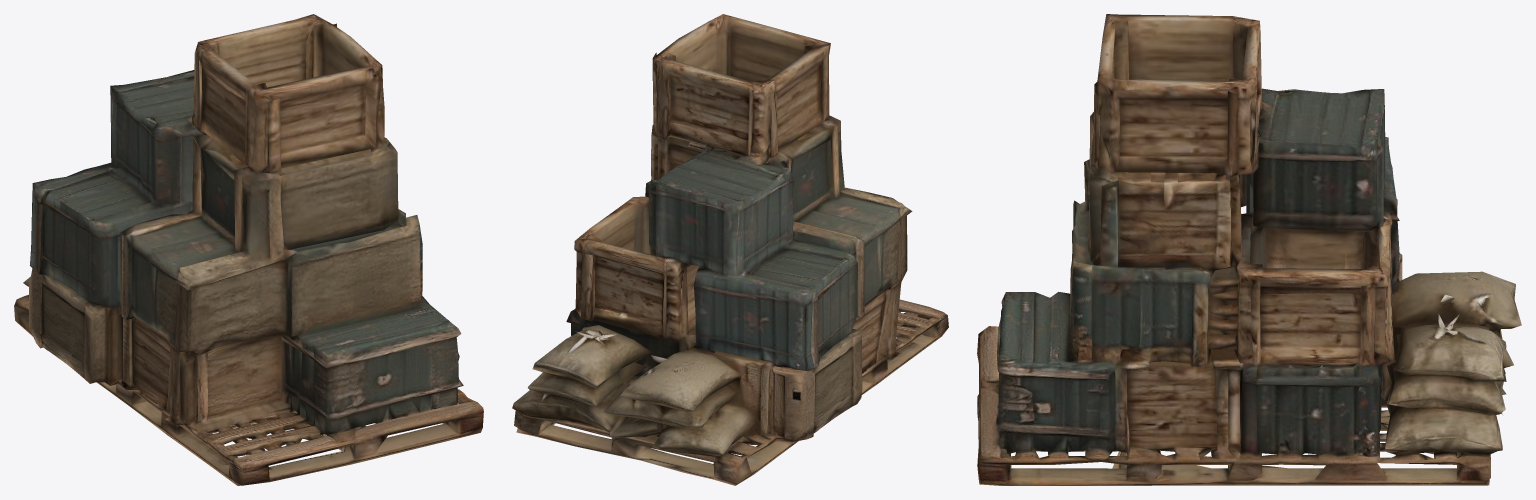
Rendered from crate_stack.glb.
3 views of the same model, side by side, from view 1: azimuth 30°, elevation 25°; view 2: azimuth 150°, elevation 25°; view 3: azimuth 270°, elevation 25° (orthographic). The views are drawn at different scales.
Parts seen in each view (by area): view 1: tripo_node_17615dfc-688f-46b1-89f2-5b2f12f4dccd; view 2: tripo_node_17615dfc-688f-46b1-89f2-5b2f12f4dccd; view 3: tripo_node_17615dfc-688f-46b1-89f2-5b2f12f4dccd.
Boxes of the visible parts, x1,y1,x2,y2 form: tripo_node_17615dfc-688f-46b1-89f2-5b2f12f4dccd: (14,14,483,485); tripo_node_17615dfc-688f-46b1-89f2-5b2f12f4dccd: (512,14,948,485); tripo_node_17615dfc-688f-46b1-89f2-5b2f12f4dccd: (977,14,1521,485).
Bounding box in the file's own units: 0.6393 × 0.7543 × 0.982.
Materials: 1 (1 with a texture image).
